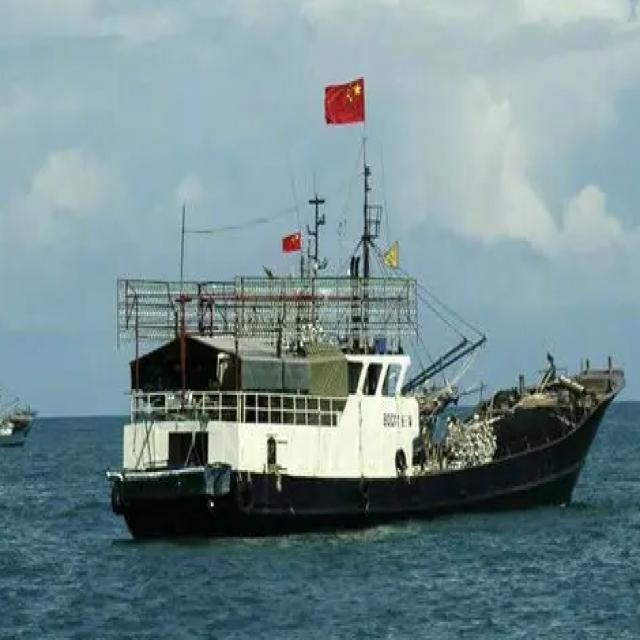fishing boat: (108, 235, 627, 540)
